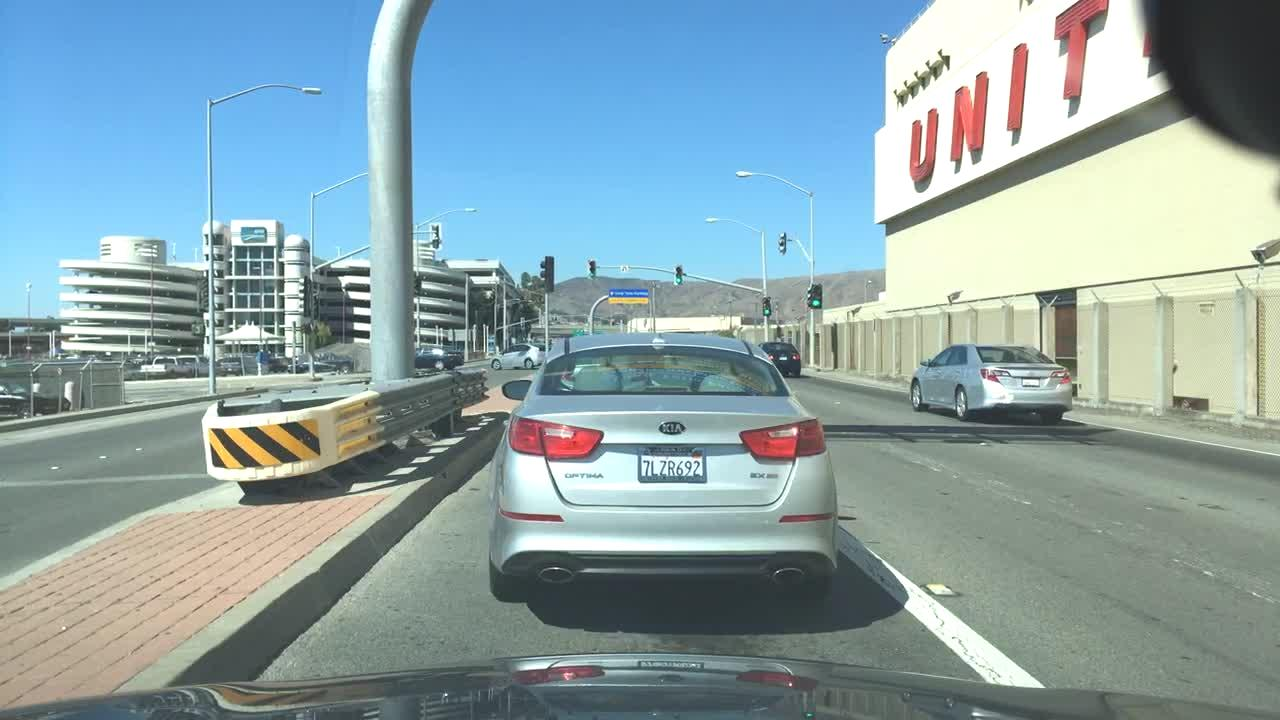kia: (651, 412, 696, 438)
